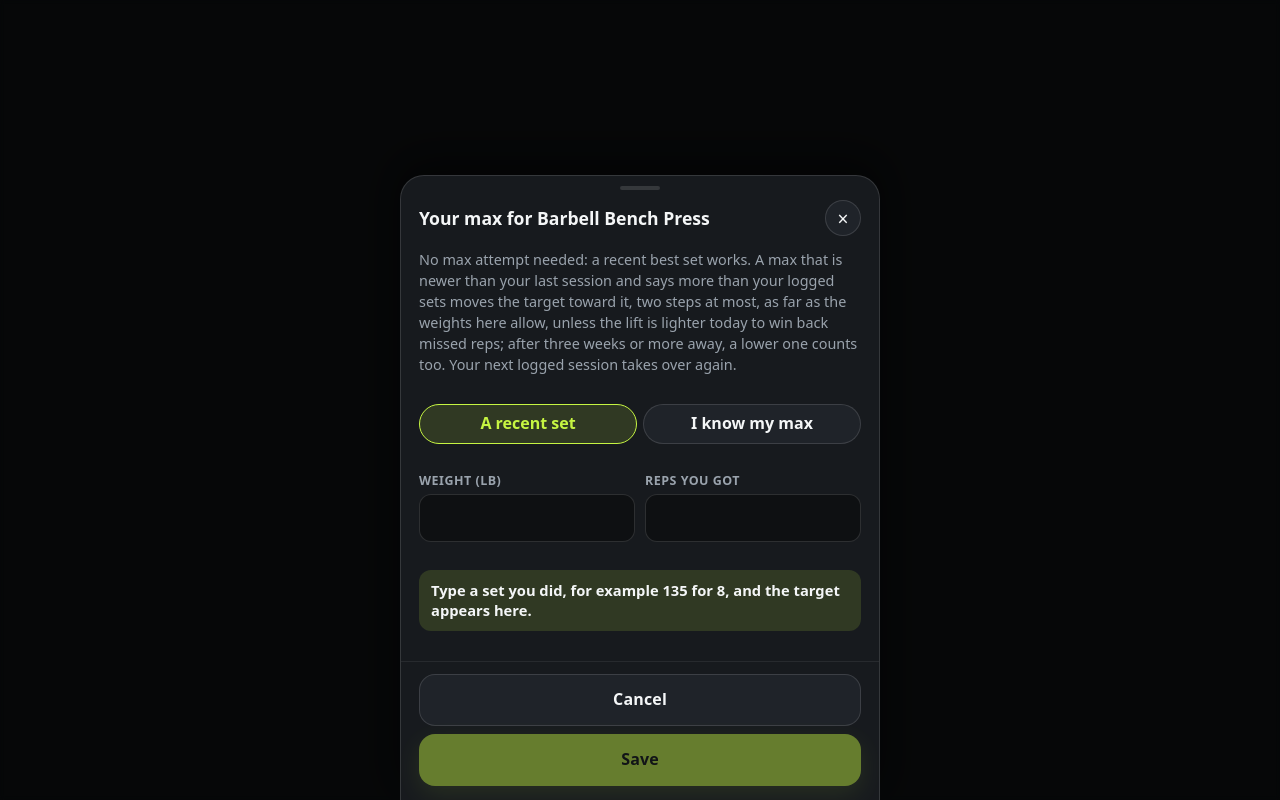
Test: MaxSheet: numbers that look like slips (Maintenance 26, item 40) › asks about a recent set the same way, and a typed field takes the question away
The width and height of the screenshot is (1280, 800).
Type "1850" into the number field with test id "max-weight" at [527, 518], box [419,494,635,542]
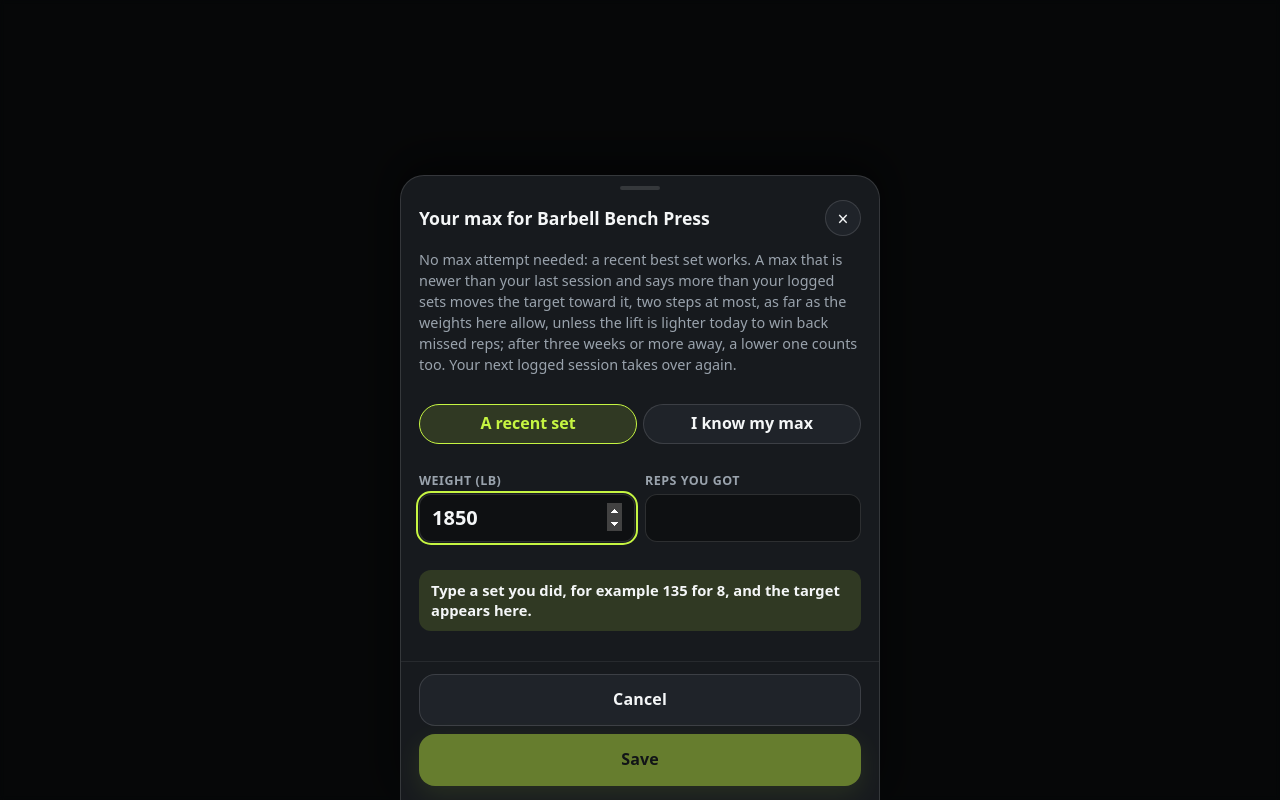
Type "5" into the number field with test id "max-reps" at [753, 518], box [645,494,861,542]
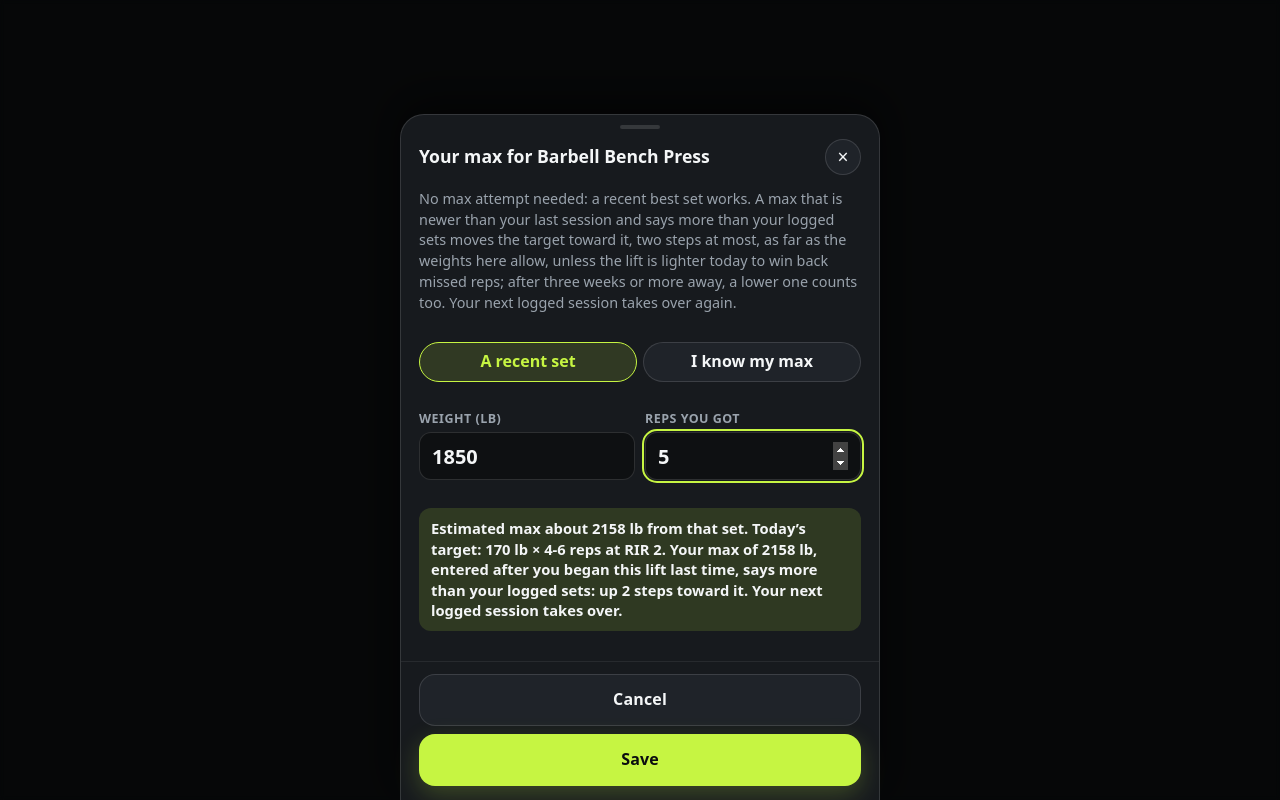
Click the button with test id "max-save" at [640, 760], box [419,734,861,786]
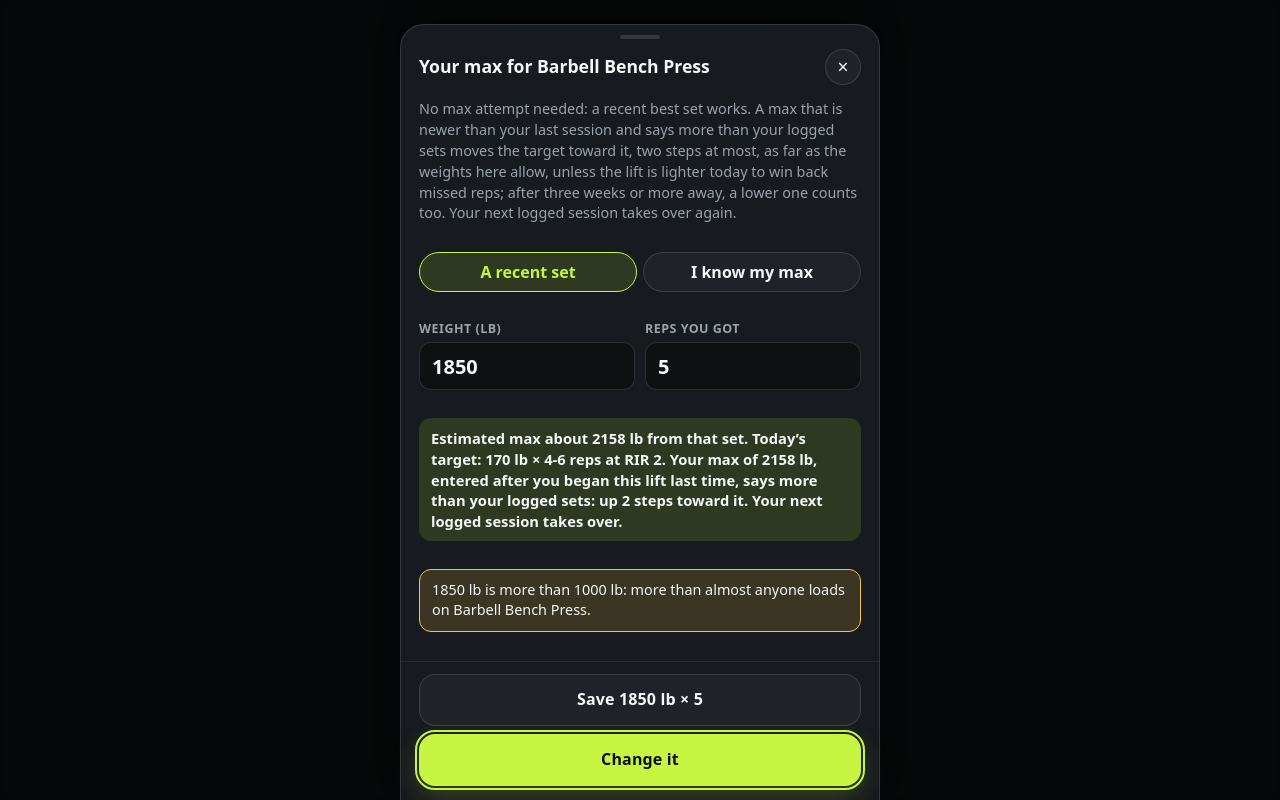
Expected: the button with test id "slip-keep" reads "Save 1850 lb × 5", [419,674,861,726]
Type "0" into the number field with test id "max-reps" at [753, 366], box [645,342,861,390]
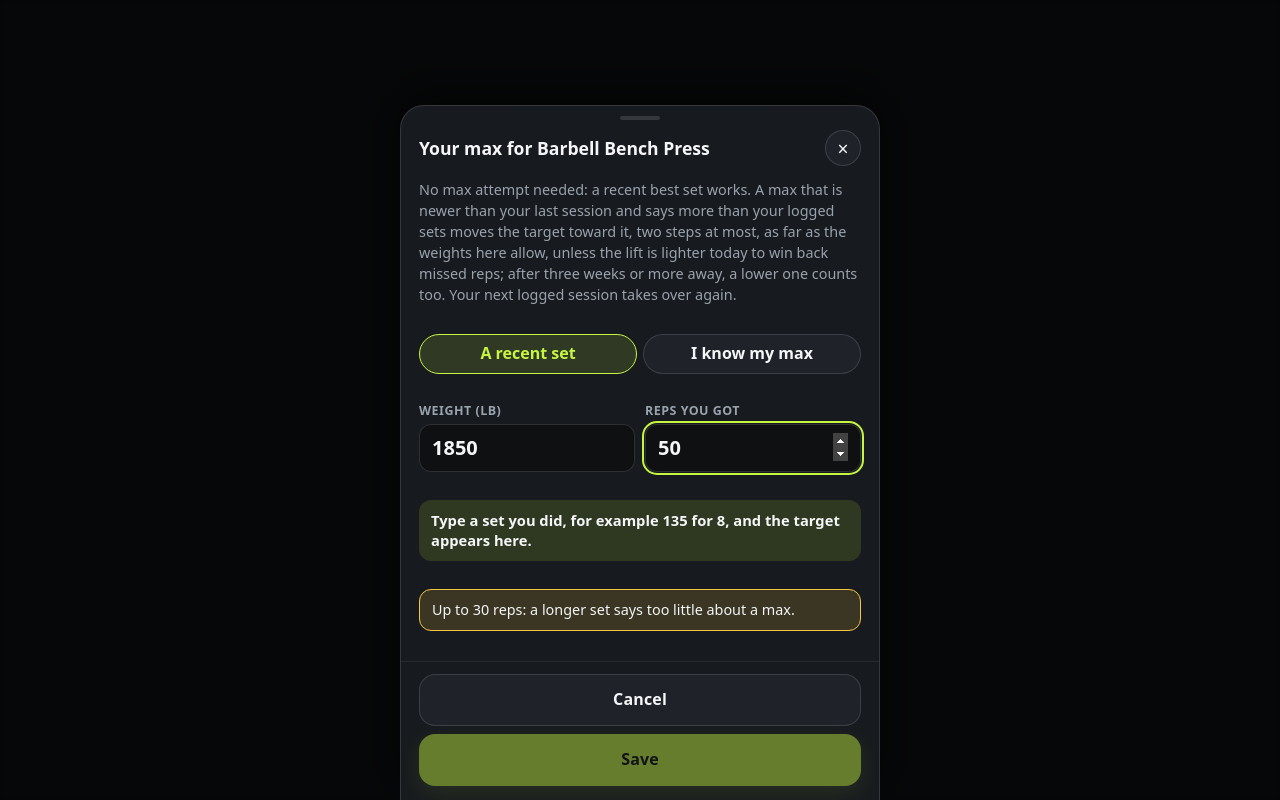
Expected: the button with test id "max-save" is shown, [419,734,861,786]
Expected: the message with test id "slip-question" is gone
